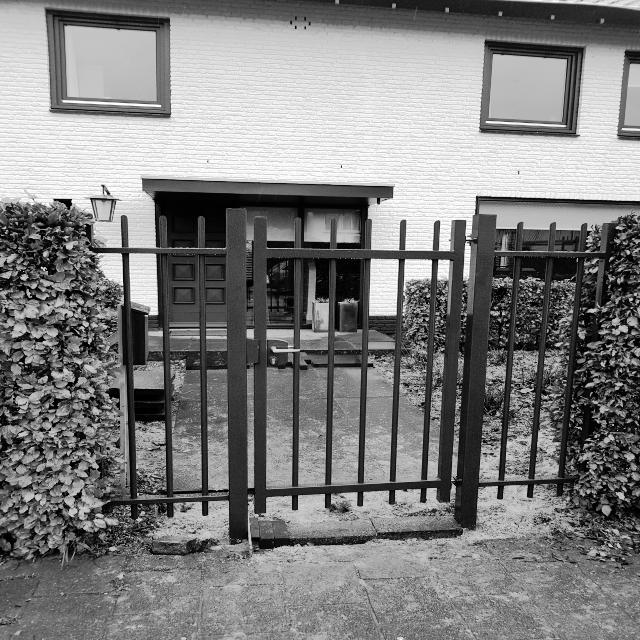fences: (130, 222, 590, 516)
